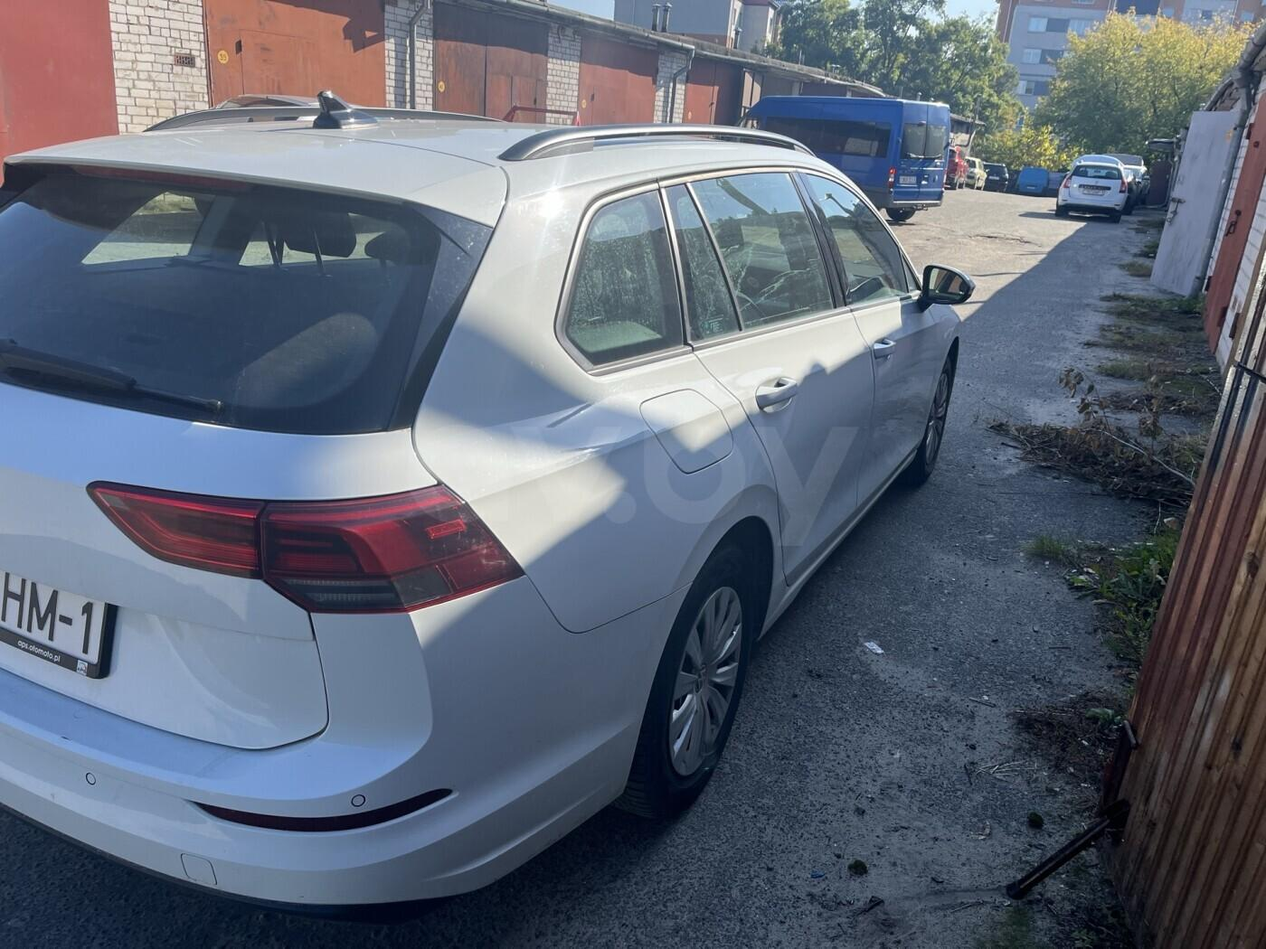Golf_2019: (0, 113, 962, 905)
